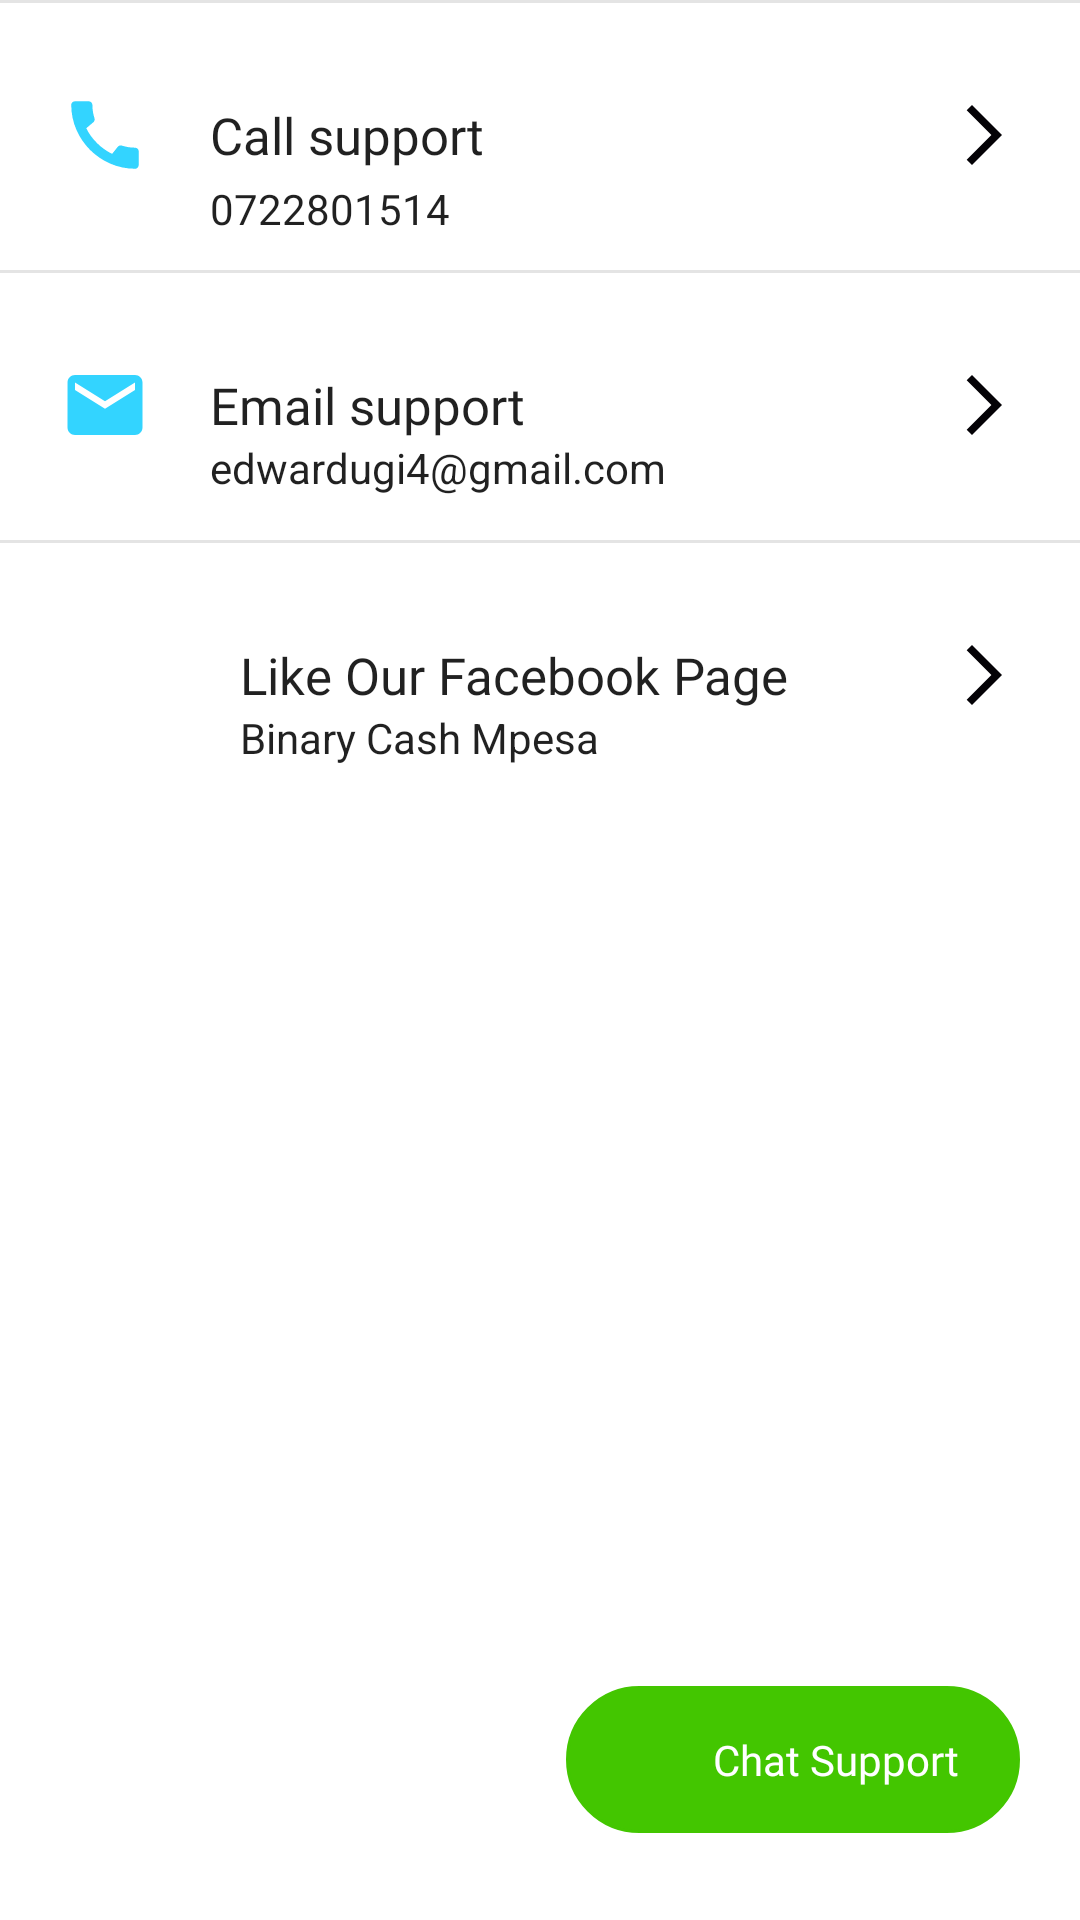

Icon click points for this 1080x1920 phone screenshot, format (x,y):
arrow forward: (984,135), (984,405), (984,675)
